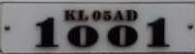character: (145, 17, 170, 48), (35, 16, 59, 48), (66, 24, 98, 48), (106, 24, 139, 47), (64, 8, 75, 20), (112, 10, 124, 21), (125, 9, 137, 20), (91, 10, 101, 21), (102, 10, 112, 21), (78, 9, 87, 20)
